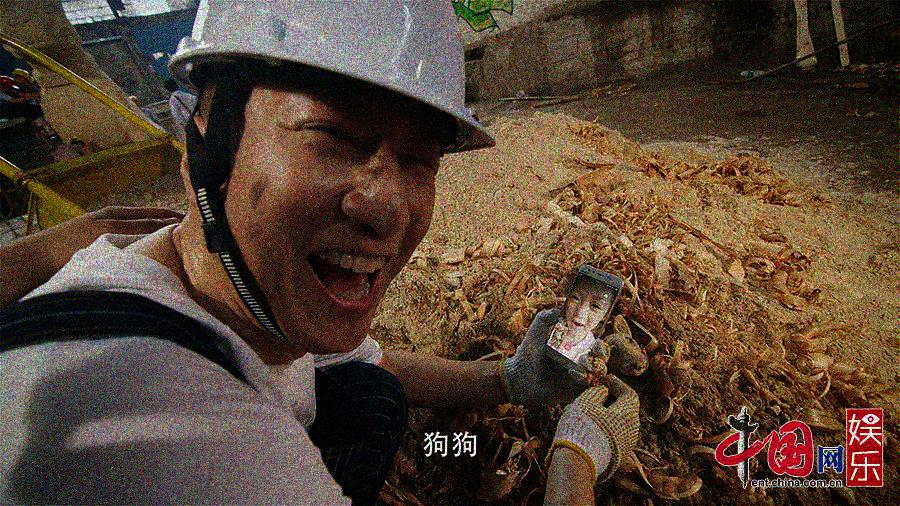helmet: (168, 1, 502, 358), (13, 67, 31, 87), (1, 76, 15, 93)
